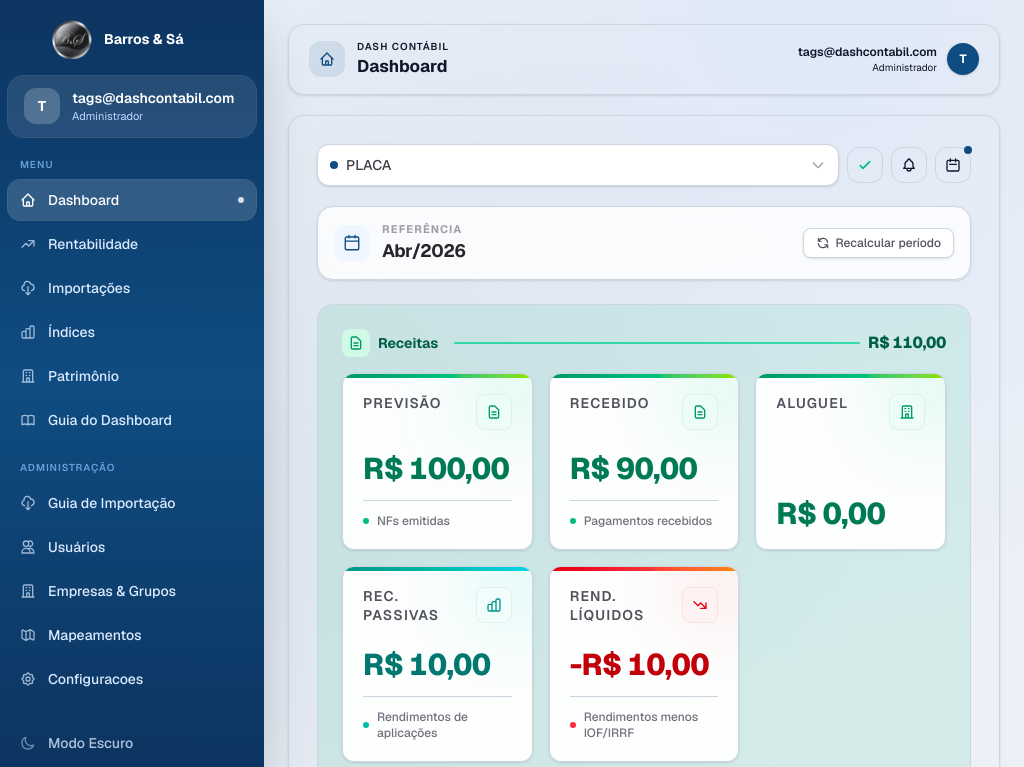
Home dashboard › switches PLACA labels back to the defaults during consolidation
Expected: the text "Previsão" is shown, [363, 394, 442, 413]
Expected: the text "Recebido" is shown, [570, 394, 650, 413]
Click the button "PLACA" at (369, 164), box [317, 144, 839, 186]
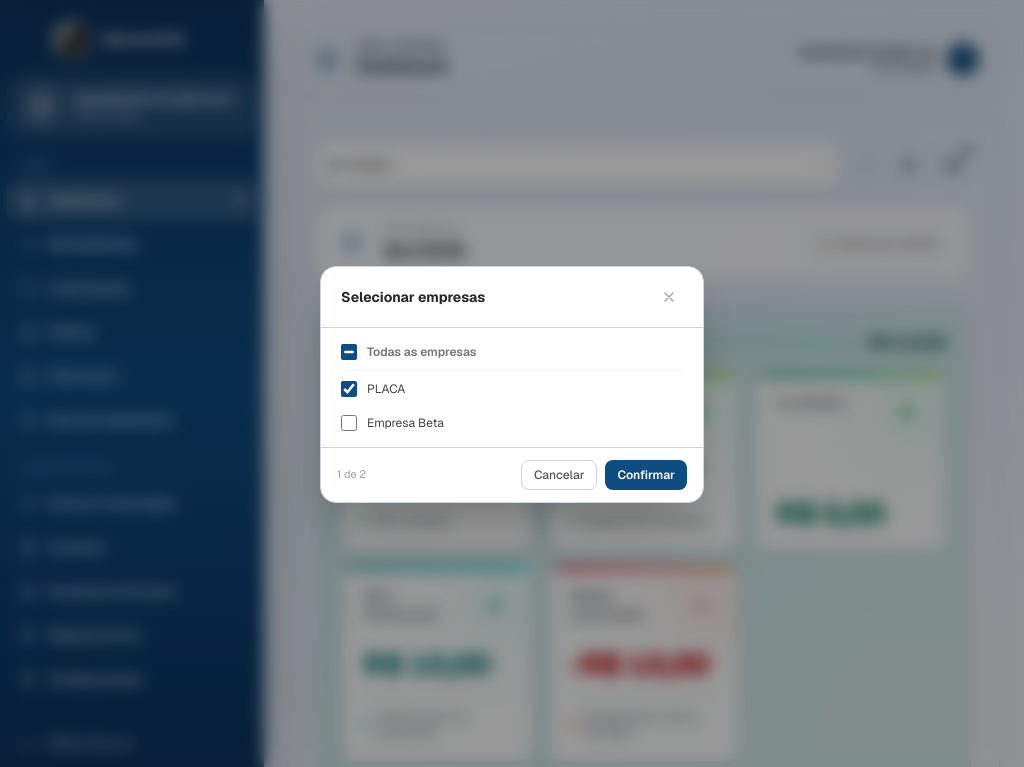
Click the checkbox labelled "Empresa Beta" at (349, 422), box [341, 414, 357, 430]
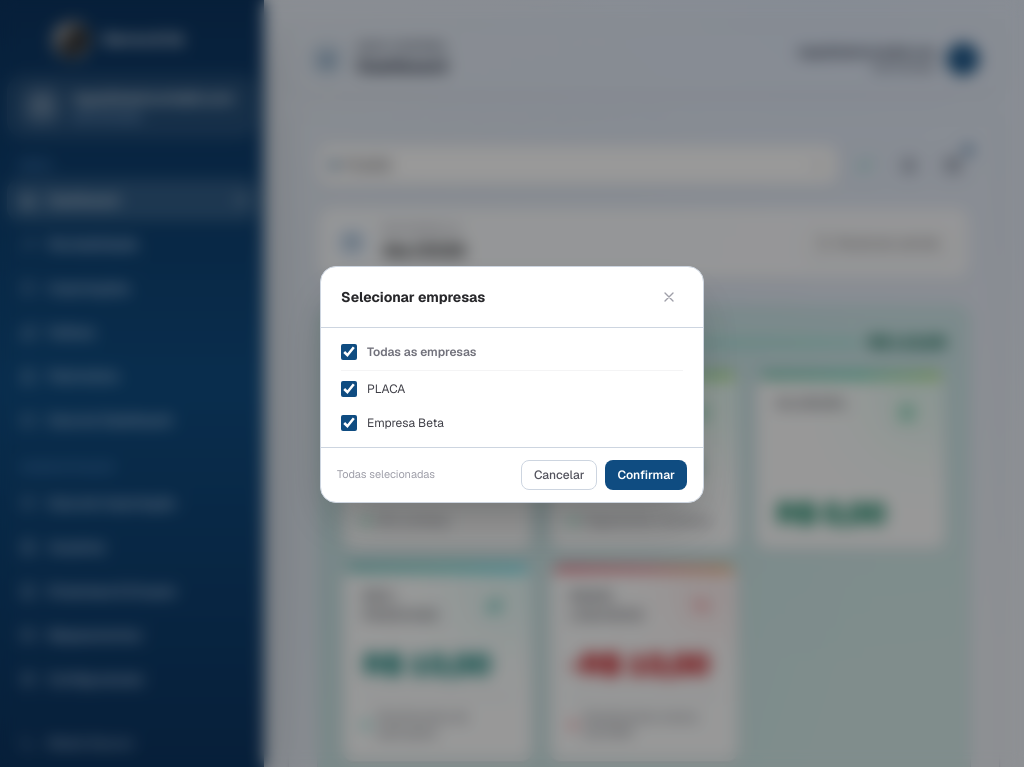
Click the button "Confirmar" at (646, 474), box [605, 460, 687, 490]
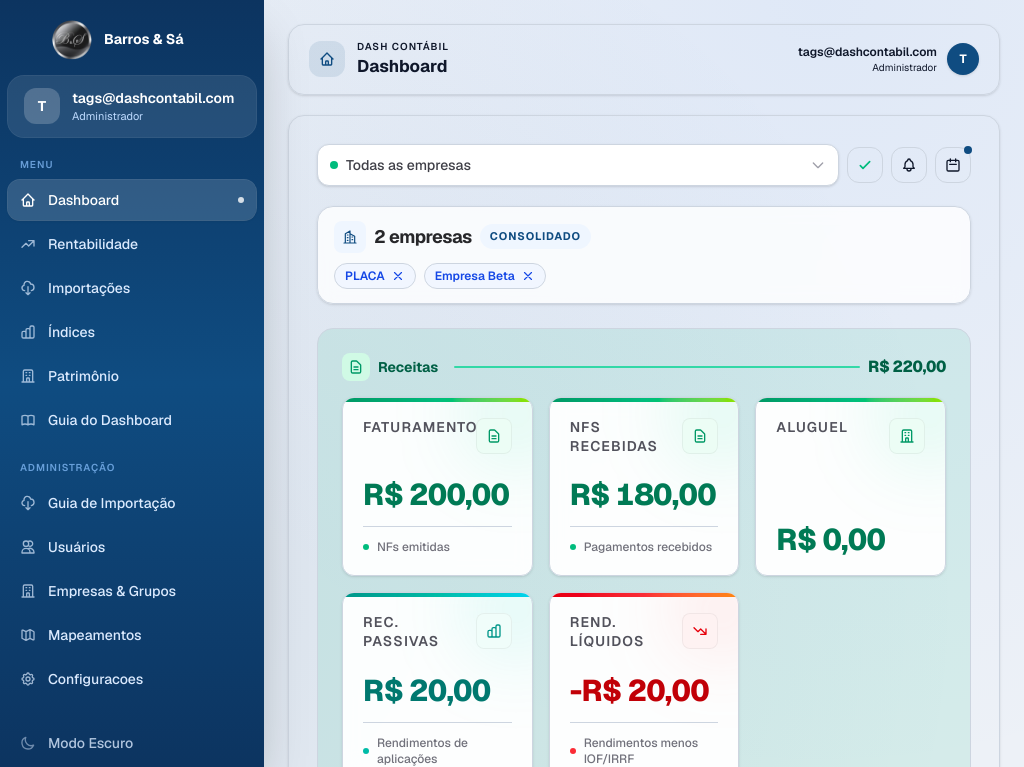
Expected: the text "2 empresas" is shown, [374, 222, 472, 250]
Expected: the text "Faturamento" is shown, [363, 418, 464, 437]
Expected: the text "NFs Recebidas" is shown, [570, 418, 670, 456]
Click the button with aria-label "Remover Empresa Beta da consolidação" at (485, 276), box [424, 262, 546, 288]
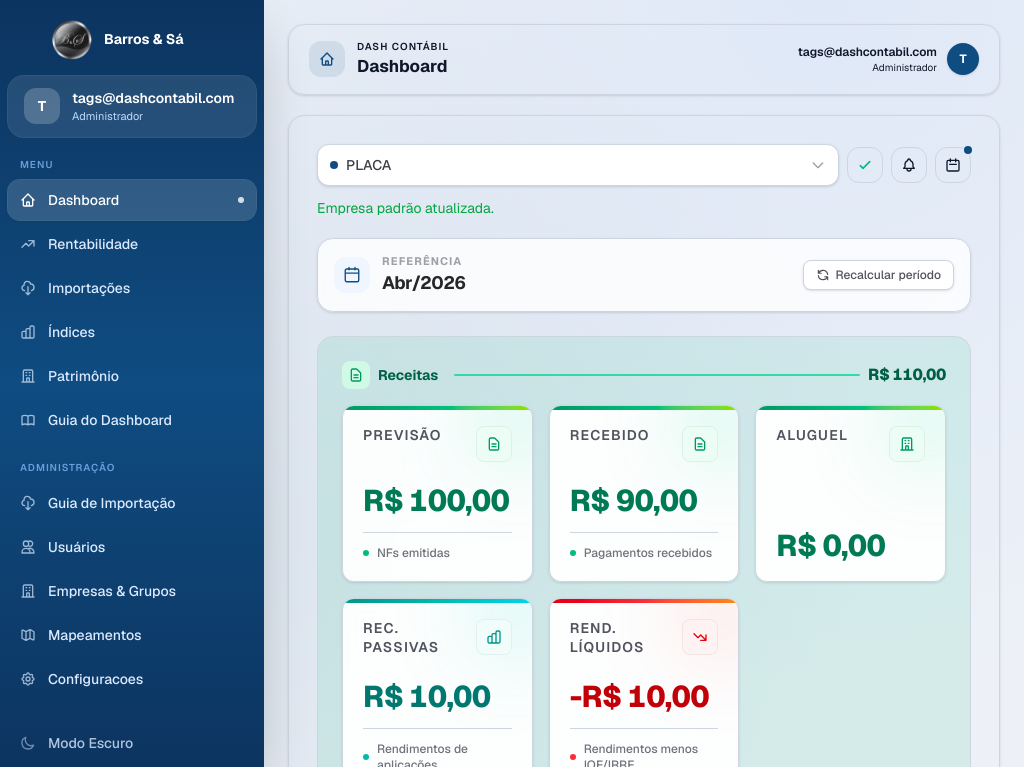
Expected: the text "Referência" is shown, [382, 252, 465, 269]
Expected: the text "Previsão" is shown, [363, 426, 442, 445]
Expected: the text "Recebido" is shown, [570, 426, 650, 445]
